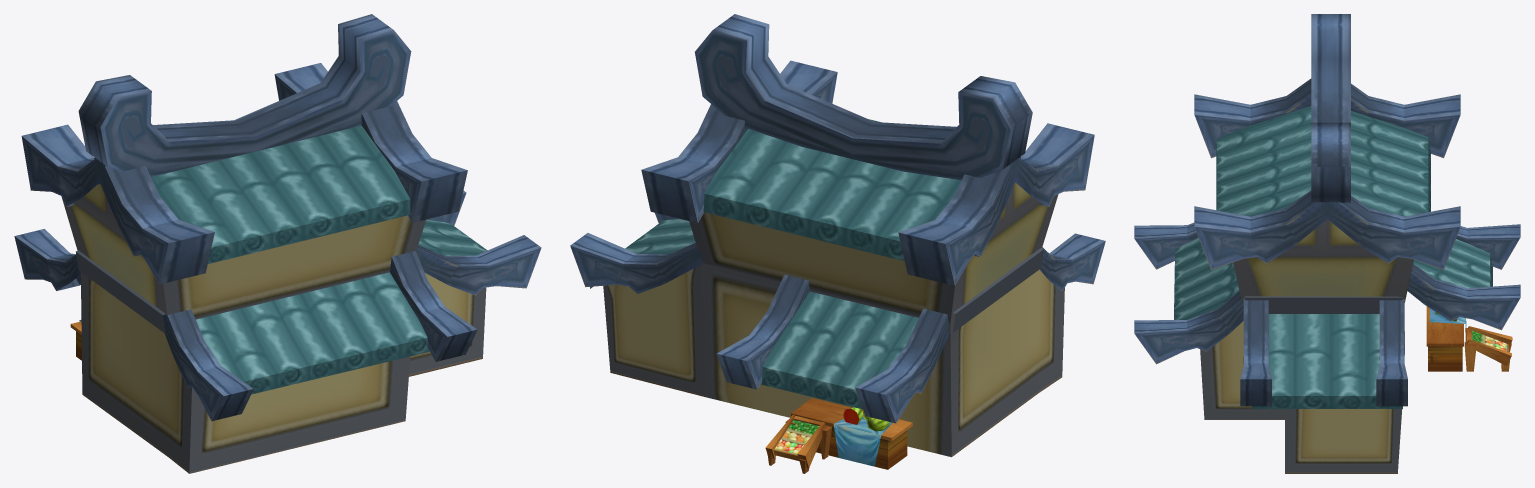
File: sences_zhucheng_mingju02.FBX
3 views of the same model, side by side, from view 1: azimuth 30°, elevation 25°; view 2: azimuth 150°, elevation 25°; view 3: azimuth 270°, elevation 25° (orthographic). The views are drawn at different scales.
Visible parts, largest first — view 1: sences_zhucheng_mingju02; view 2: sences_zhucheng_mingju02; view 3: sences_zhucheng_mingju02.
Part boxes in pixels (left/top/right/bottom): sences_zhucheng_mingju02: left=14, top=14, right=541, bottom=473; sences_zhucheng_mingju02: left=570, top=14, right=1105, bottom=473; sences_zhucheng_mingju02: left=1134, top=14, right=1520, bottom=473.
Bounding box in the file's own units: 49.72 × 45.63 × 39.77.
